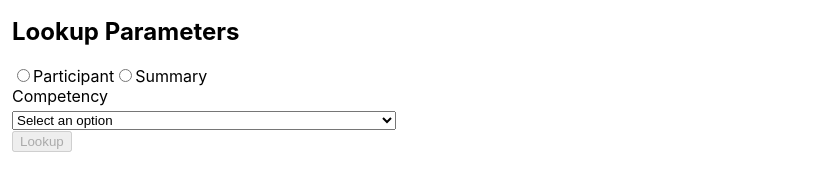
Lookup › Should reset selected values if lookup mode is changed
Expected: the heading "Lookup Parameters" is shown, [12, 17, 240, 46]
Click the radio button labelled "Participant" at [24, 75], box [17, 69, 30, 82]
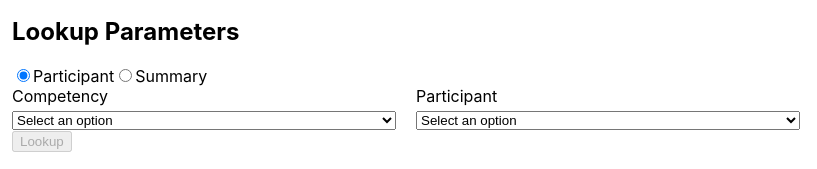
Select "Enthusiasm" in the dropdown named "competency" below "Competency" at [204, 120], box [12, 111, 396, 130]
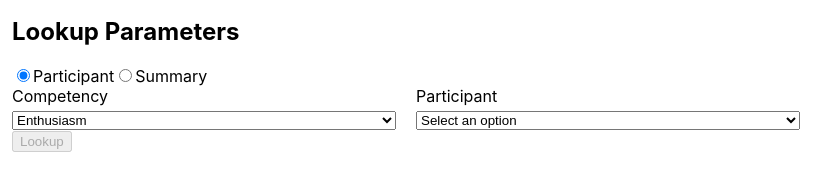
Select "Vera Voorbeeld" in the 2nd dropdown named "participant" at [608, 120], box [416, 111, 800, 130]
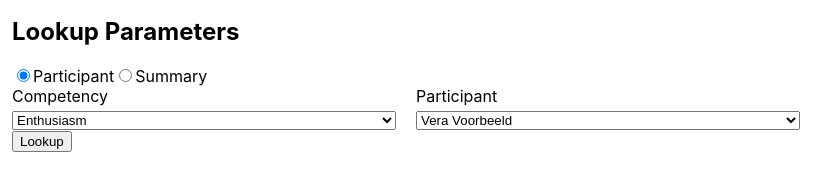
Expected: the submit button is enabled, [12, 131, 72, 152]
Click the radio button labelled "Summary" at [126, 75], box [119, 69, 132, 82]
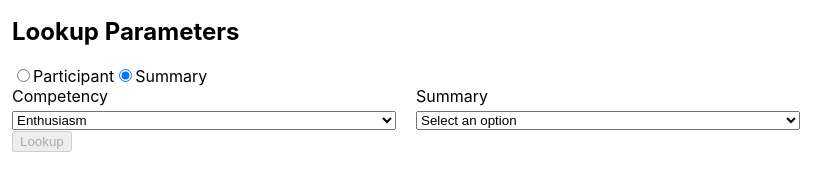
Expected: the submit button is disabled, [12, 131, 72, 152]
